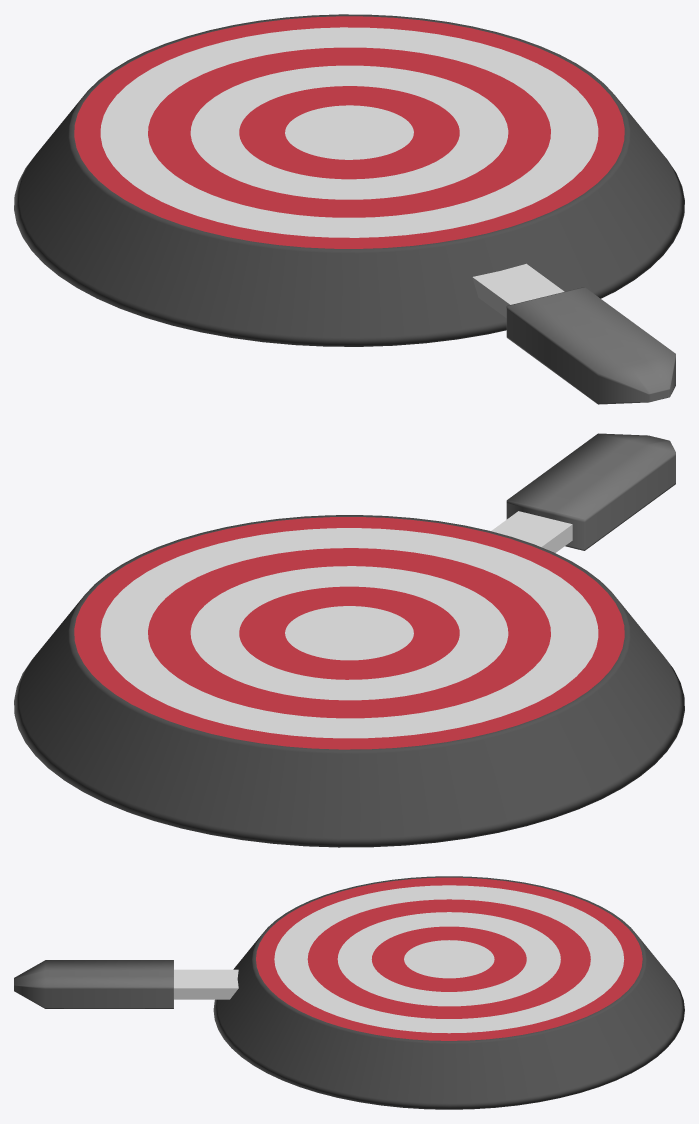
File: Fry Pan small.fbx
3 renders of one model, top to bottom at view 1: azimuth 30°, elevation 25°; view 2: azimuth 150°, elevation 25°; view 3: azimuth 270°, elevation 25°, orthographic. The views are drawn at different scales.
Parts seen in each view (by area): view 1: Cylinder; view 2: Cylinder; view 3: Cylinder.
Boxes of the visible parts, <box> form: Cylinder: <box>14,14,684,404</box>; Cylinder: <box>14,433,684,847</box>; Cylinder: <box>14,876,684,1109</box>.
Bounding box in the file's own units: 30.64 × 3.65 × 43.61.
